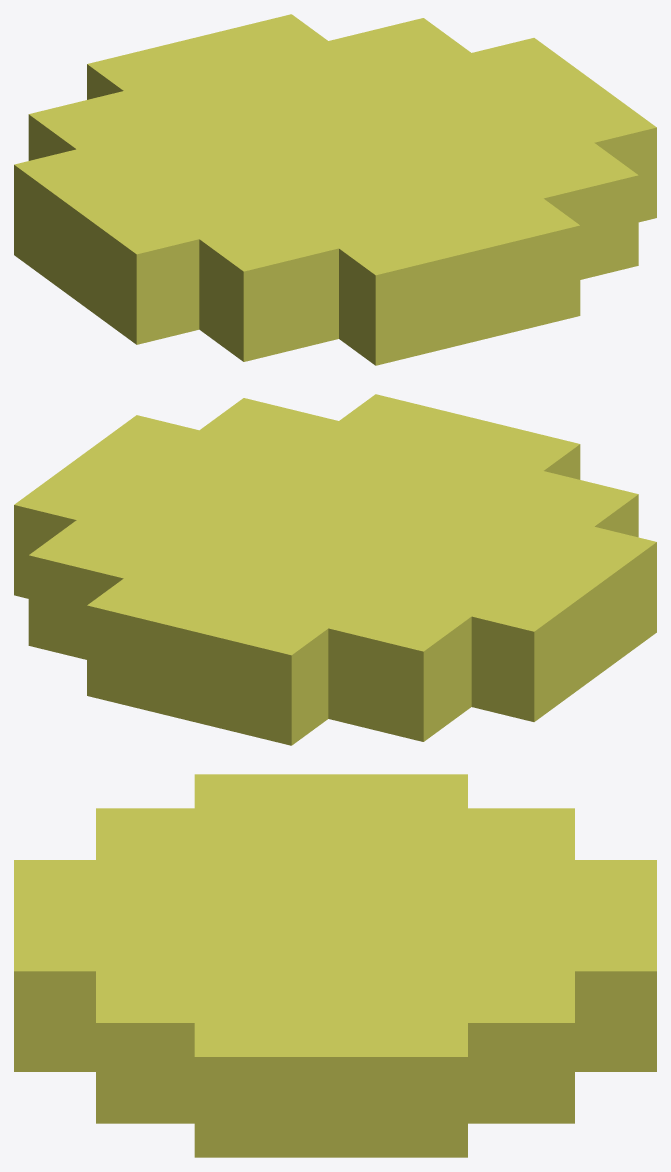
The model's file is URINE_PUDDLE.fbx.
3 views of the same model, one above another, from view 1: azimuth 30°, elevation 25°; view 2: azimuth 150°, elevation 25°; view 3: azimuth 270°, elevation 25° (orthographic). The views are drawn at different scales.
Parts seen in each view (by area): view 1: URINE_PUDDLE; view 2: URINE_PUDDLE; view 3: URINE_PUDDLE.
Part boxes in pixels (x1,y1,x2,y2): URINE_PUDDLE: [14, 14, 656, 365]; URINE_PUDDLE: [14, 394, 656, 745]; URINE_PUDDLE: [14, 774, 656, 1157].
Bounding box in the file's own units: 3.62 × 0.602 × 3.48.
